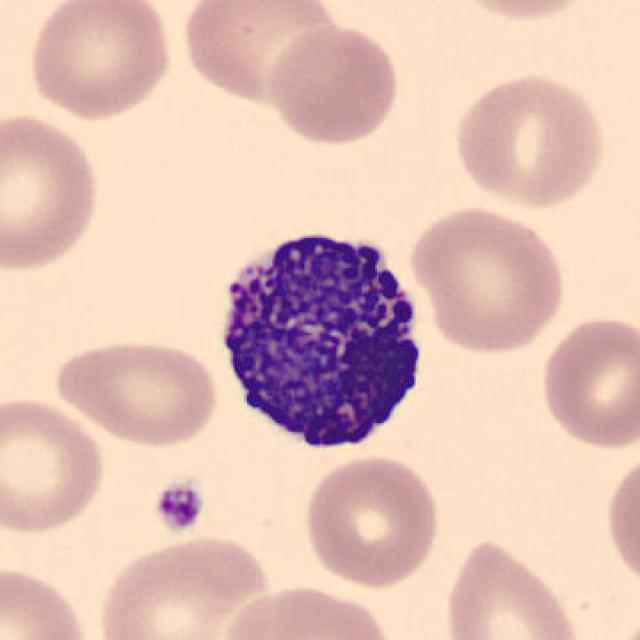basophil: (223, 221, 420, 431)
platelets: (153, 478, 208, 536)
rbc: (404, 196, 570, 352), (50, 332, 226, 452), (451, 74, 599, 214), (301, 453, 442, 587), (191, 0, 361, 99), (31, 0, 172, 116), (106, 537, 263, 640), (538, 312, 640, 462), (0, 113, 100, 261), (277, 15, 393, 140), (0, 394, 108, 523), (444, 537, 572, 640), (218, 586, 399, 640), (0, 545, 82, 640), (601, 464, 640, 580), (474, 0, 575, 27)
